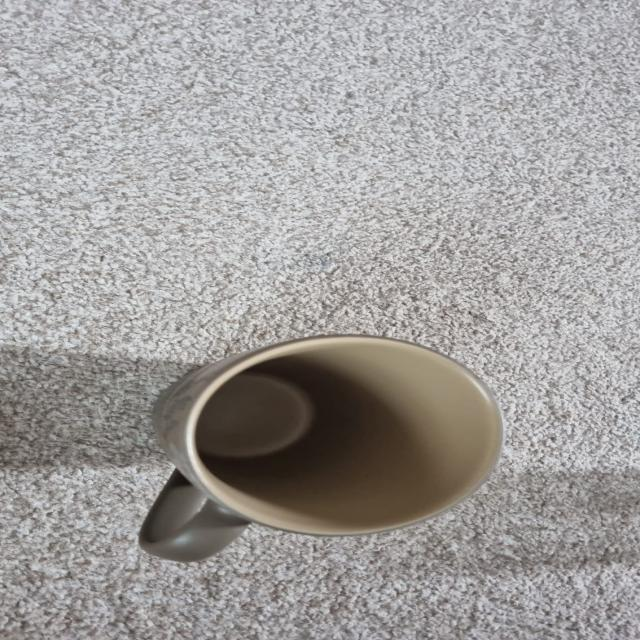Cup: (139, 335, 503, 561)
